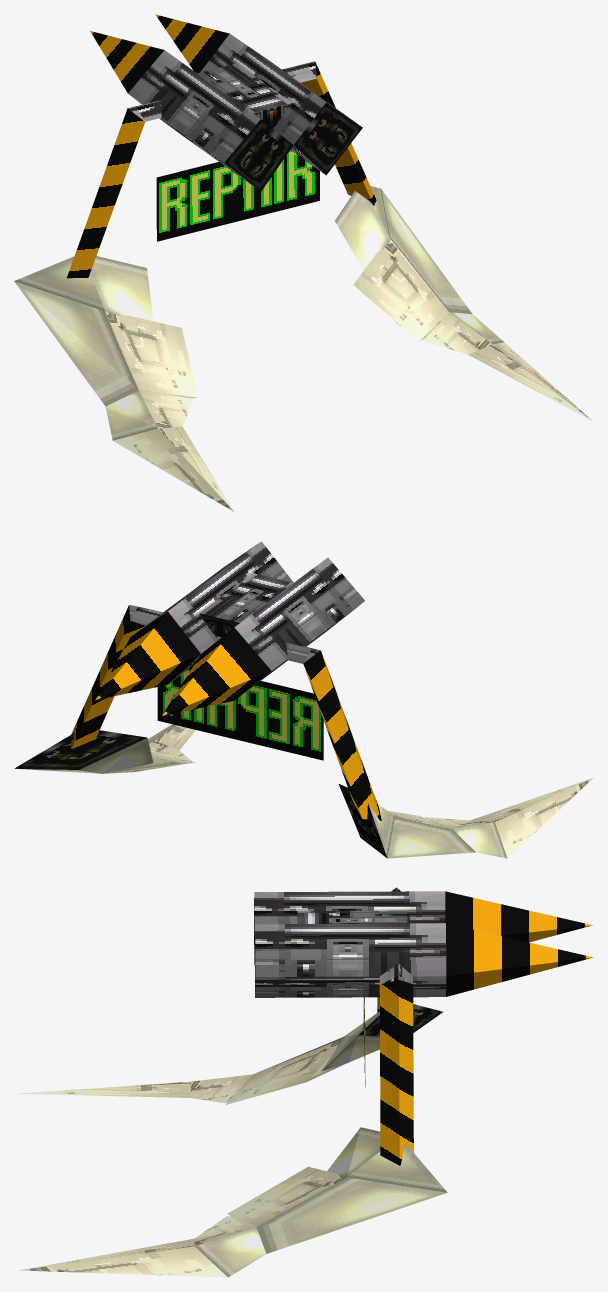
File: Wing Repair.obj
3 renders of one model, top to bottom at view 1: azimuth 30°, elevation 25°; view 2: azimuth 150°, elevation 25°; view 3: azimuth 270°, elevation 25°, orthographic.
Parts seen in each view (by area): view 1: ShapeIndexedFaceSet.074; view 2: ShapeIndexedFaceSet.074; view 3: ShapeIndexedFaceSet.074.
Part boxes in pixels (left/top/right/bottom): ShapeIndexedFaceSet.074: left=14, top=14, right=593, bottom=511; ShapeIndexedFaceSet.074: left=14, top=541, right=592, bottom=858; ShapeIndexedFaceSet.074: left=17, top=887, right=593, bottom=1277.
Bounding box in the file's own units: 2.88 × 1.89 × 3.64.
Materials: 7 (7 with a texture image).
